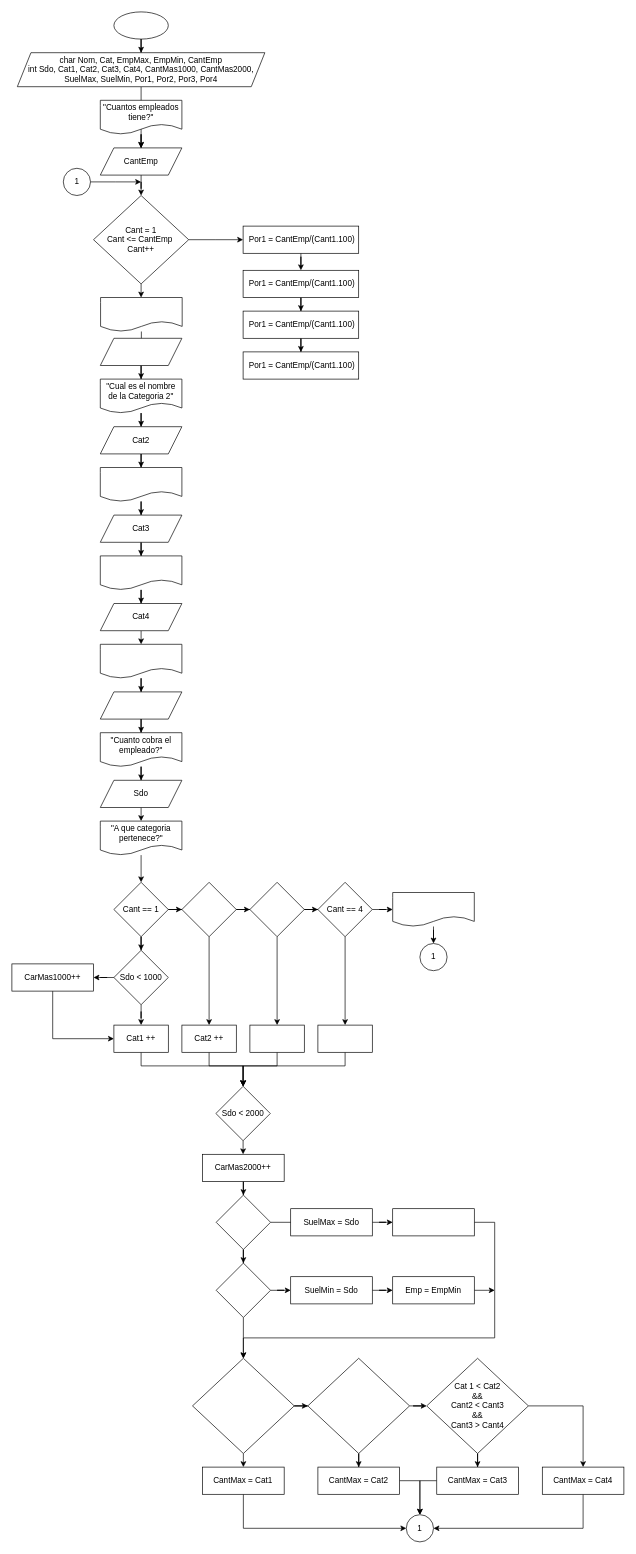
The diagram is 636 pixels wide and 1554 high, and some of its shapes have lost their labels. Here are the shapes that lost their labels. From the top down, the centre of each, then its label:
(x=140, y=25): Inicio
(x=141, y=314): "Cual es el nombre de la Categoria 1"
(x=141, y=352): Cat1
(x=141, y=484): "Cual es el nombre de la Categoria 3"
(x=141, y=572): "Cual es el nombre de la Categoria 4"
(x=141, y=661): "Ingresa el nombre de un empleado"
(x=141, y=705): Nom
(x=208, y=909): Cant == 2
(x=276, y=909): Cant == 3
(x=433, y=909): "Errpr de categoria"
(x=276, y=1038): Cat3 ++
(x=344, y=1038): Cat4 ++
(x=243, y=1222): Sdo > SuelMax
(x=433, y=1222): Emp = EmpMax
(x=243, y=1290): Sdo < SuelMin
(x=243, y=1406): Cat 1 > Cat2 && Cant2 < Cant3 && Cant3 < Cant4
(x=358, y=1406): Cat 1 < Cat2 && Cant2 > Cant3 && Cant3 < Cant4
